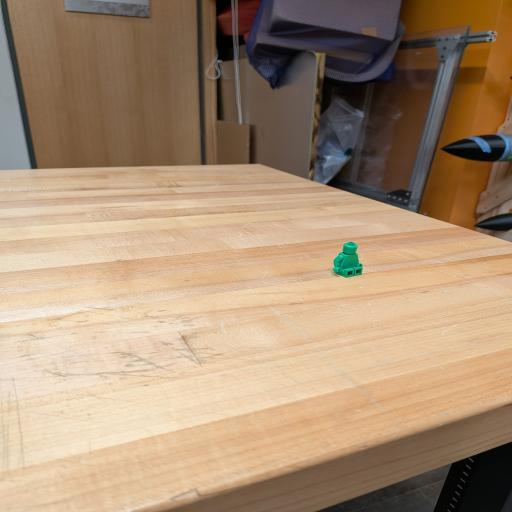Minifig: (333, 242, 362, 277)
